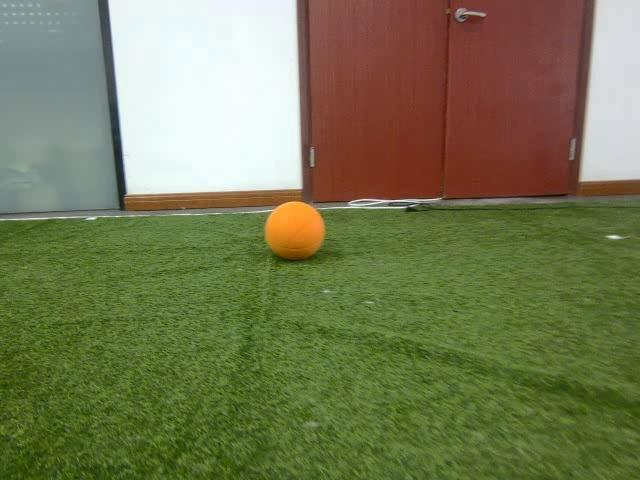orange_ball: (266, 200, 326, 261)
